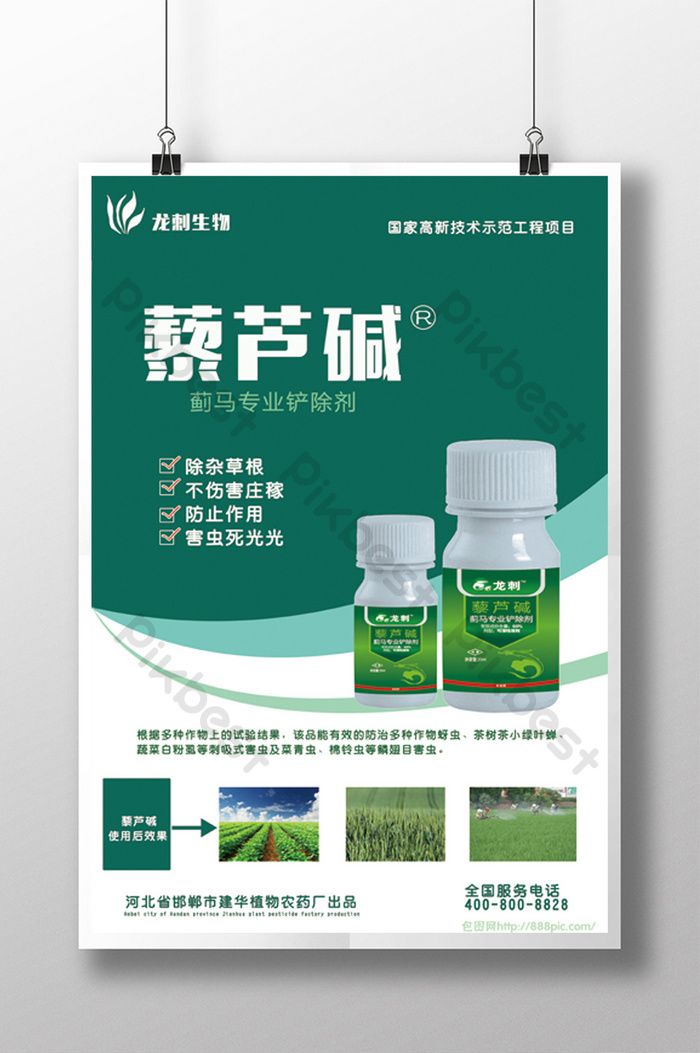Insecticide: (435, 429, 569, 717), (347, 510, 444, 715)
